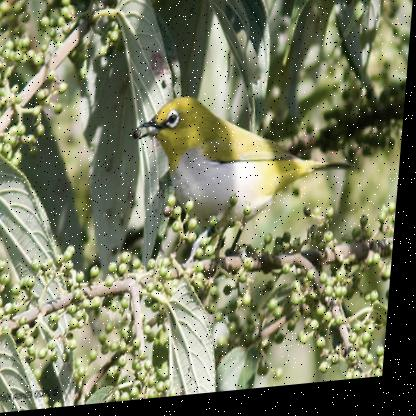Burung: (132, 87, 367, 268)
